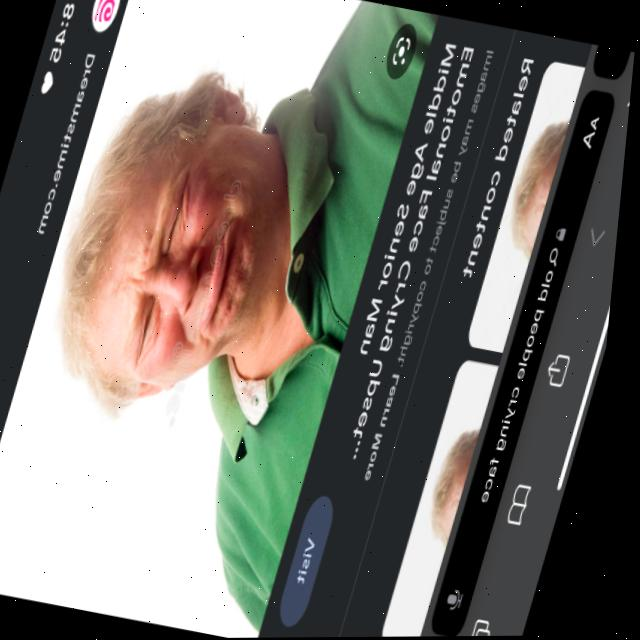sad: (82, 111, 296, 395)
